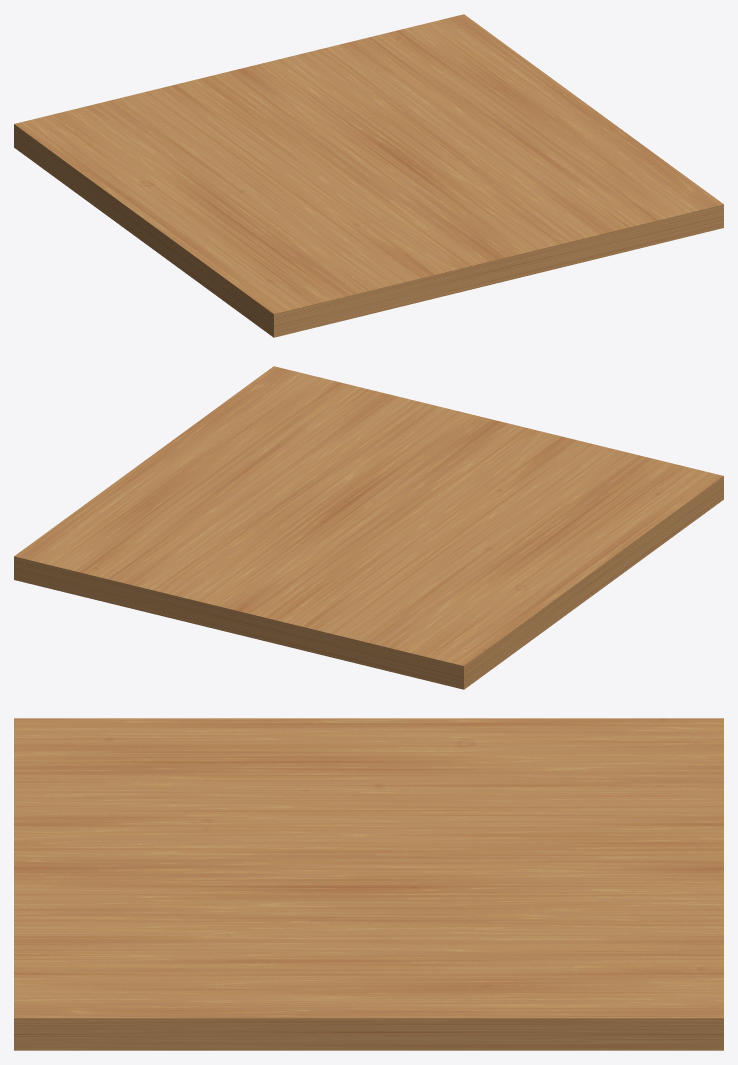
The model's file is Yakitori_Animation.fbx.
The picture shows the model from 3 angles, top to bottom: view 1: azimuth 30°, elevation 25°; view 2: azimuth 150°, elevation 25°; view 3: azimuth 270°, elevation 25°; orthographic projection. The views are drawn at different scales.
Parts seen in each view (by area): view 1: 立方体; view 2: 立方体; view 3: 立方体.
Part boxes in pixels (<box>): 立方体: <box>14,14,723,337</box>; 立方体: <box>14,366,723,689</box>; 立方体: <box>14,718,723,1050</box>.
Bounding box in the file's own units: 100 × 5 × 100.
